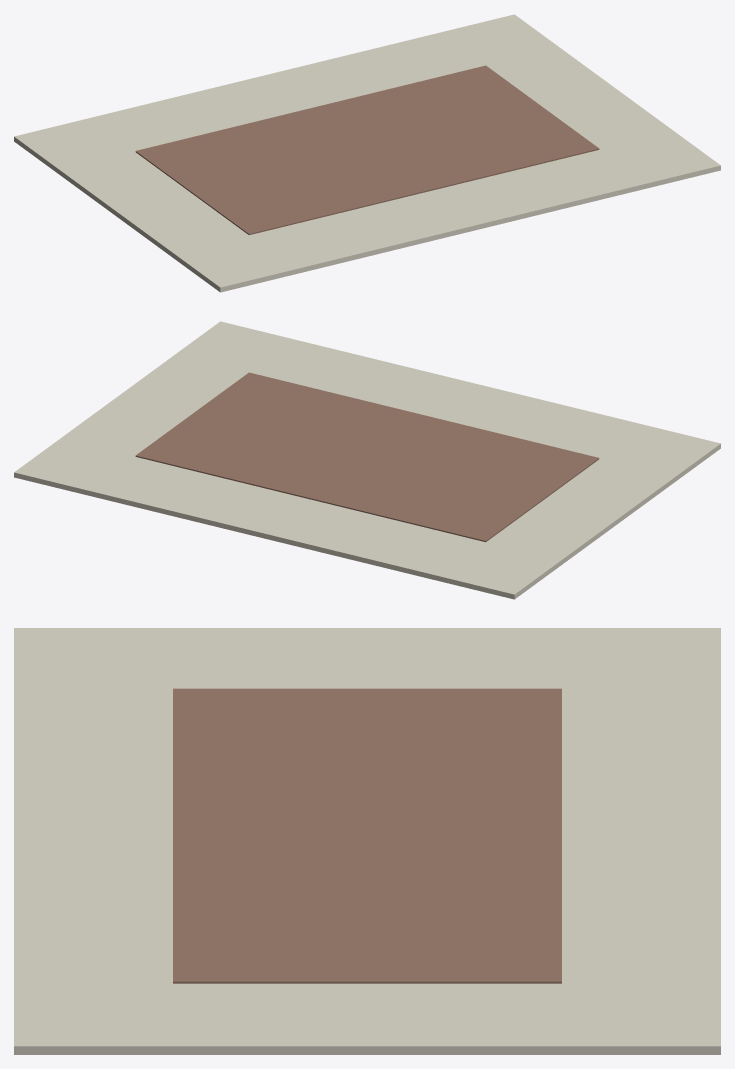
Rendered from drawing.fbx.
3 renders of one model, top to bottom at view 1: azimuth 30°, elevation 25°; view 2: azimuth 150°, elevation 25°; view 3: azimuth 270°, elevation 25°, orthographic. The views are drawn at different scales.
Visible parts, largest first — view 1: drawing; view 2: drawing; view 3: drawing.
Boxes of the visible parts, x1,y1,x2,y2 form: drawing: (14,14,720,292); drawing: (14,321,720,599); drawing: (14,628,720,1054).
Bounding box in the file's own units: 0.21 × 0.0025 × 0.15.
